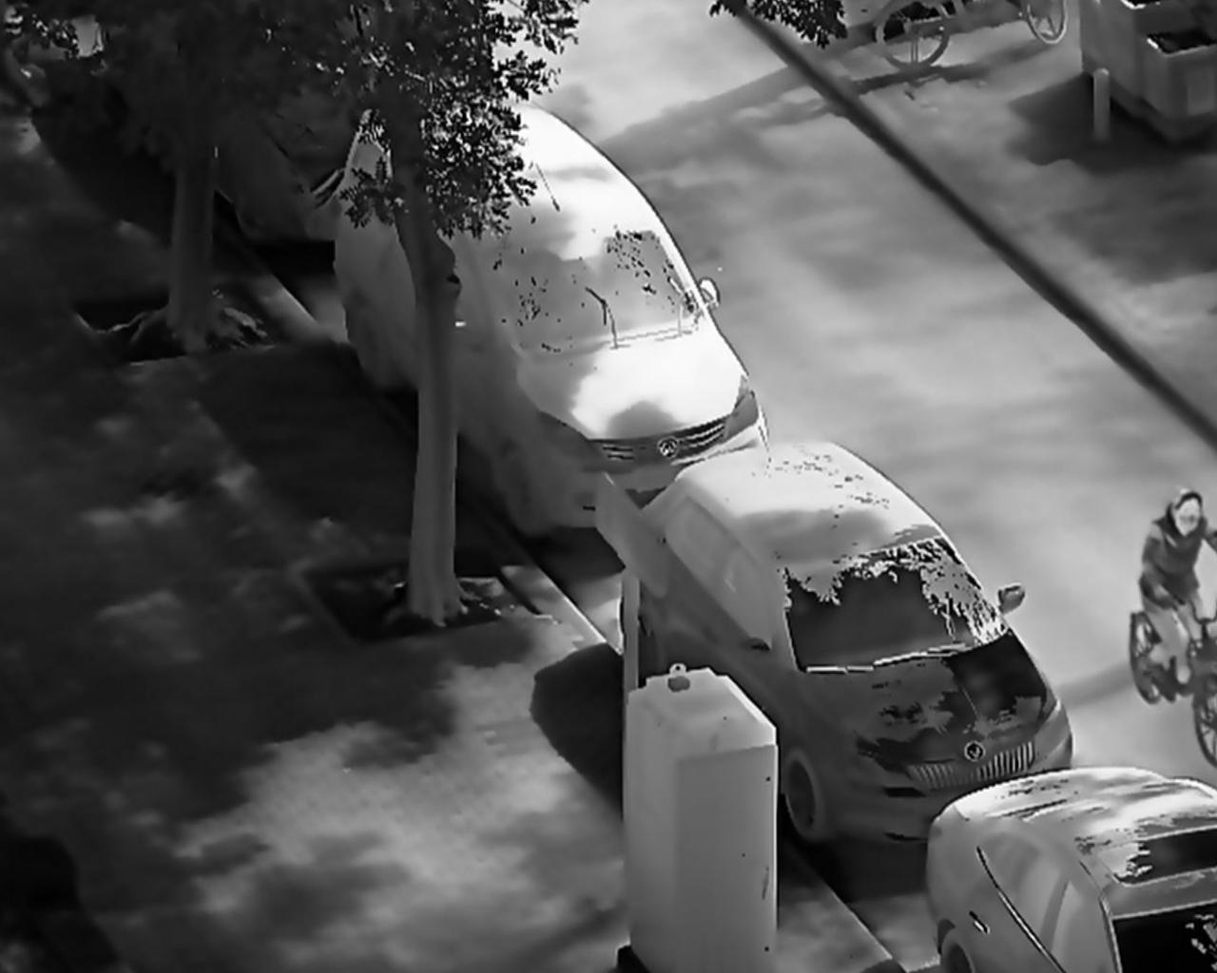person: (1138, 486, 1217, 704)
